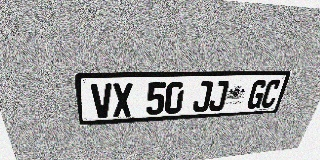0: (164, 82, 185, 114)
5: (146, 82, 166, 115)
C: (259, 79, 282, 108)
G: (245, 80, 268, 109)
J: (208, 81, 230, 111), (192, 81, 213, 112)
V: (90, 83, 113, 118)
X: (112, 83, 132, 117)
